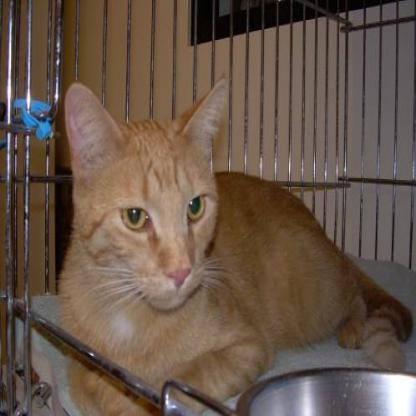cat: (51, 50, 244, 342)
